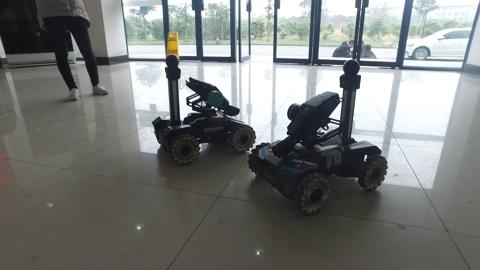chariot: (247, 58, 386, 229), (141, 51, 256, 165)
